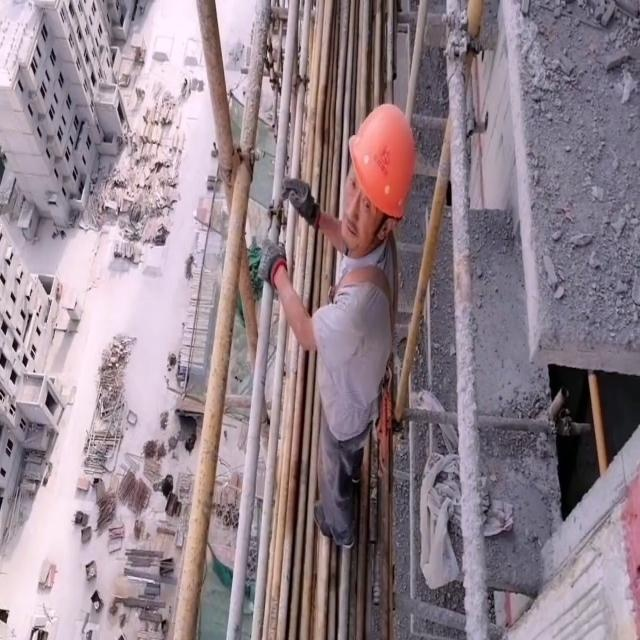Arnes_seguridad: (329, 220, 403, 437)
